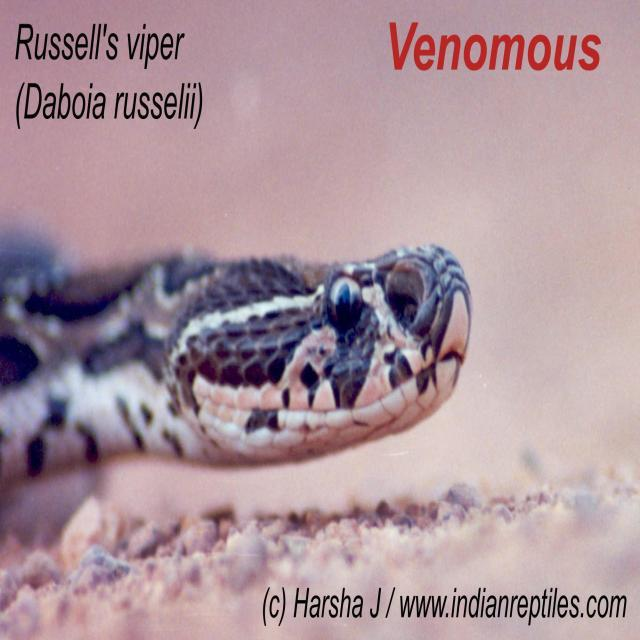Snake: (1, 240, 473, 483)
